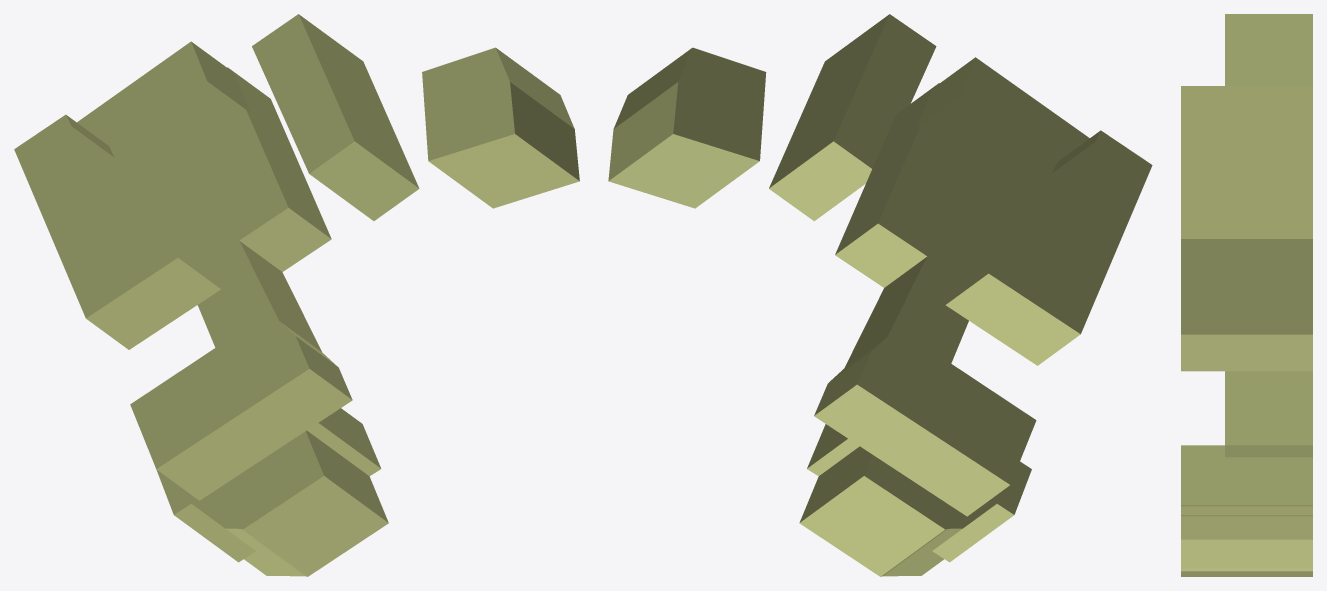
3 views of the same model, side by side, from view 1: azimuth 30°, elevation 25°; view 2: azimuth 150°, elevation 25°; view 3: azimuth 270°, elevation 25° (orthographic).
Visible parts, largest first — view 1: 0_3_1_0_3_3_3_3_1; view 2: 0_3_1_0_3_3_3_3_1; view 3: 0_3_1_0_3_3_3_3_1.
Part boxes in pixels (x1,y1,x2,y2): 0_3_1_0_3_3_3_3_1: (14,14,579,576); 0_3_1_0_3_3_3_3_1: (608,14,1152,576); 0_3_1_0_3_3_3_3_1: (1181,14,1312,576).
Bounding box in the file's own units: 40.15 × 38.45 × 9.
